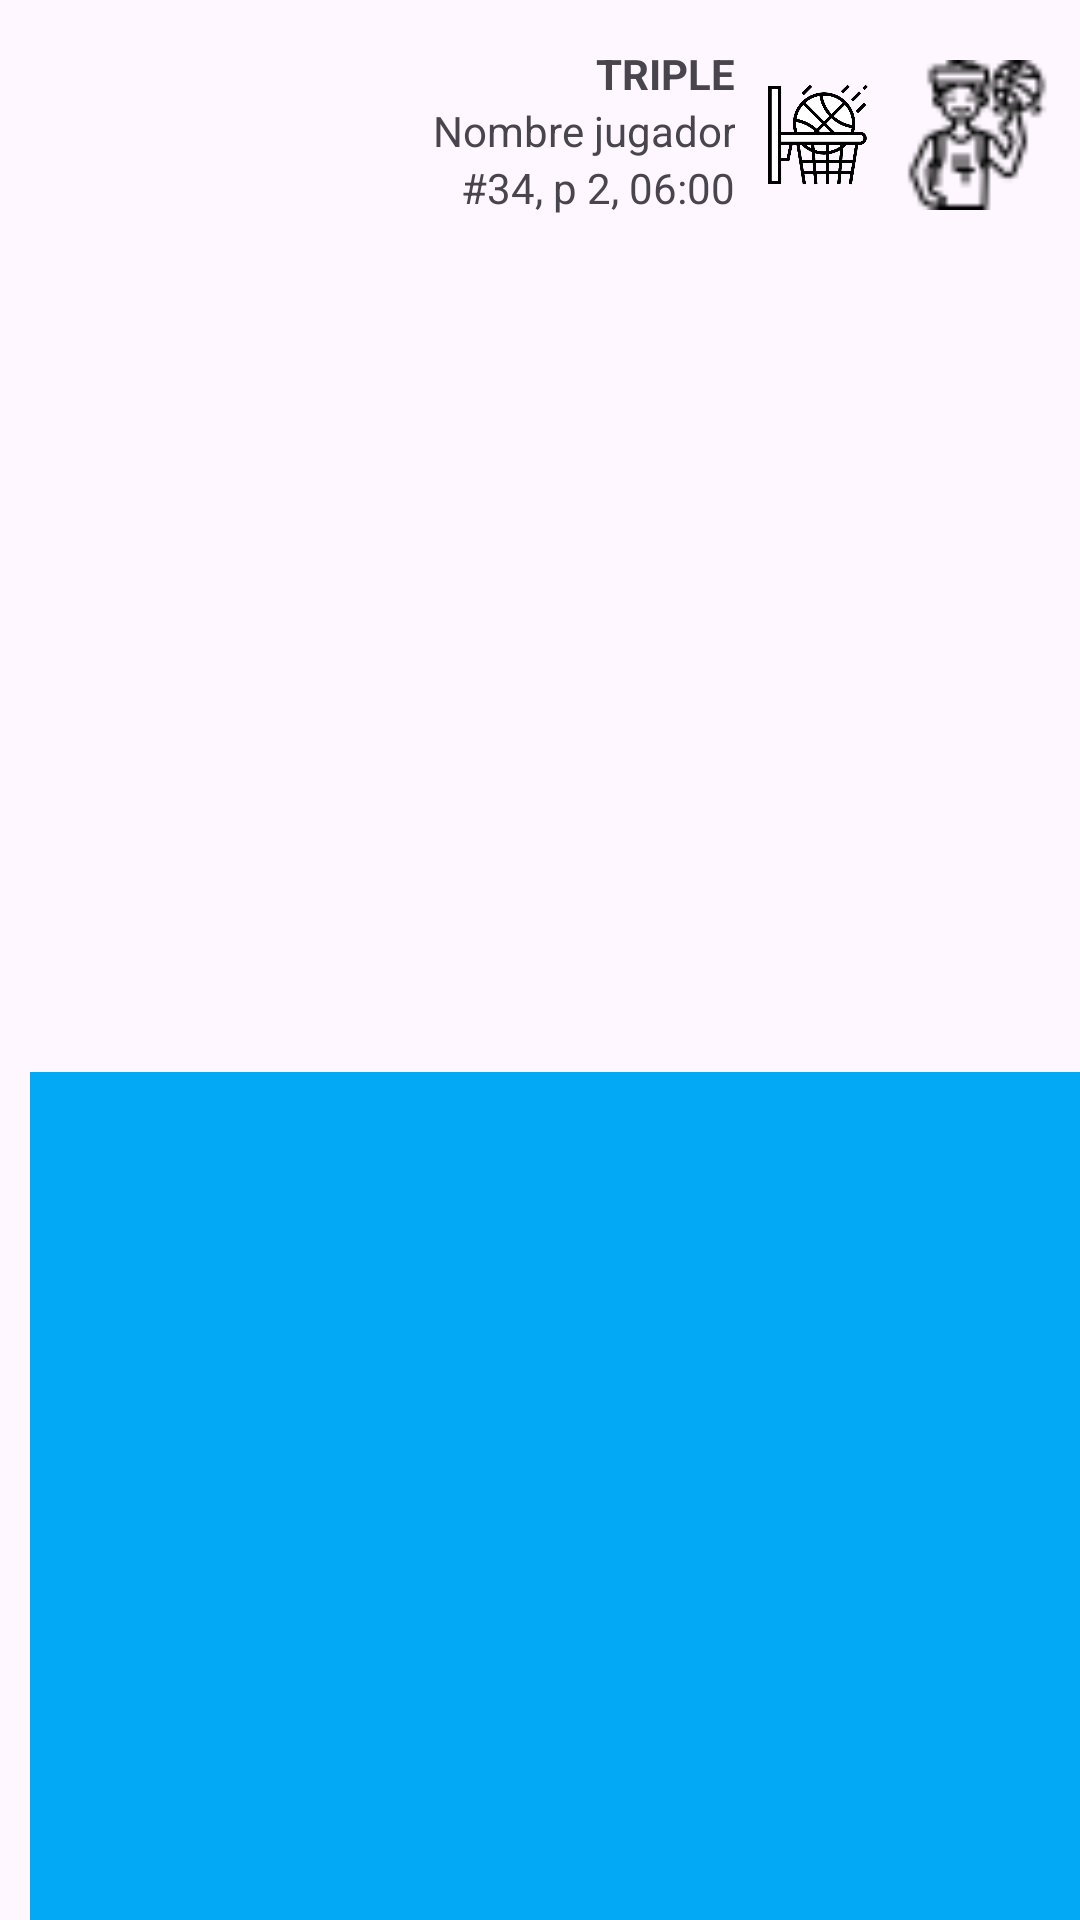

Icons on this 1080*1920 Android screen, each with the point to tap as (x=x, y=y):
canastablanco: (x=818, y=135)
jugador de baloncesto: (x=977, y=135)
